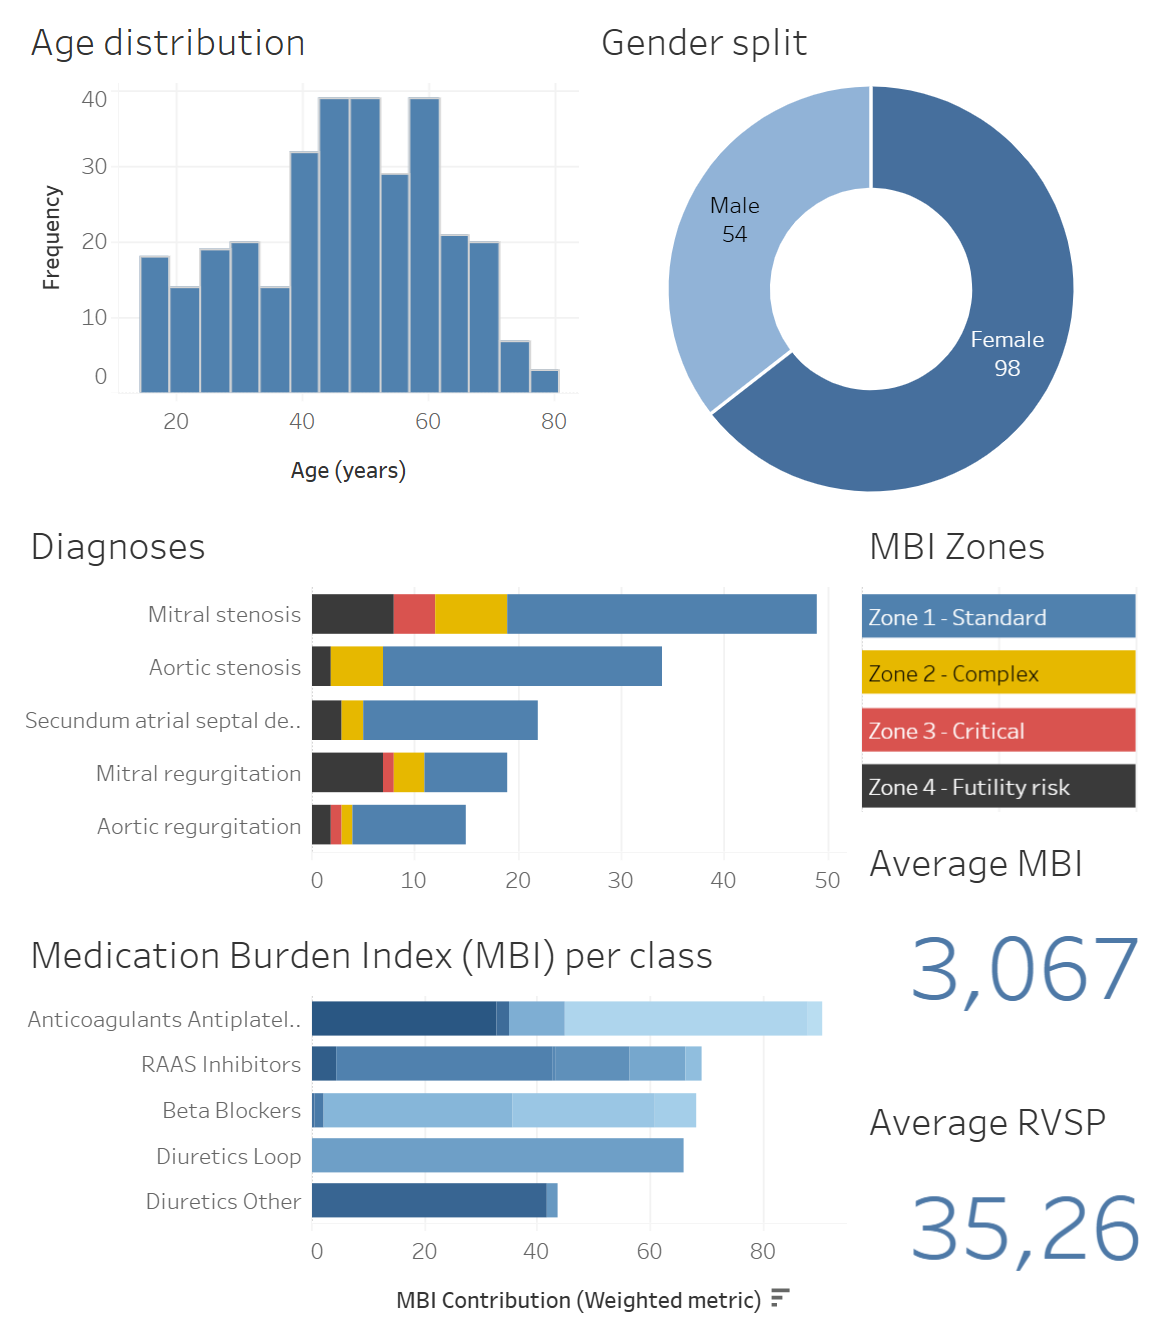

This screenshot's page, from the dashboard's own definition file:
{"tool":"tableau","page":{"name":"Dashboard","canvas":[650,860],"ordinal":0},"visuals":[{"type":"worksheet","title":"Age distribution","mark":"Automatic","rows":["age (db_patient.csv)"],"cols":["Age (Db Patient.Csv) (bin)"],"box":[8,9.1,317,325.5]},{"type":"worksheet","title":"Gender split","box":[325,9.1,317,325.5]},{"type":"worksheet","title":"Diagnoses","mark":"Automatic","rows":["diagnosis"],"cols":["Calculation_1844983758827523"],"box":[8,334.6,404,250.7]},{"type":"worksheet","title":"Average MBI","mark":"Automatic","box":[412,334.6,230,157.6]},{"type":"worksheet","title":"Average RVSP","mark":"Automatic","box":[412,492.2,230,151.9]},{"type":"worksheet","title":"Medication Burden Index (MBI)","mark":"Automatic","rows":["med_class"],"cols":["mbi_contribution"],"box":[8,585.3,404,265.5]},{"type":"worksheet","title":"MBI Zones","mark":"Bar","rows":["Calculation_1844983763271684"],"cols":["Calculation_1844983773544461"],"box":[412,644.1,230,206.7]}]}

Visuals, with their boxes on the page's 650x860 design canvas (x1, y1, x2, y2). These are canvas units, not pixel positions in the 1172x1322 screenshot, which may show the page scaled, cropped or inside an application window:
"Age distribution" worksheet: bbox(8, 9, 325, 335)
"Gender split" worksheet: bbox(325, 9, 642, 335)
"Diagnoses" worksheet: bbox(8, 335, 412, 585)
"Average MBI" worksheet: bbox(412, 335, 642, 492)
"Average RVSP" worksheet: bbox(412, 492, 642, 644)
"Medication Burden Index (MBI)" worksheet: bbox(8, 585, 412, 851)
"MBI Zones" worksheet (Bar marks): bbox(412, 644, 642, 851)
